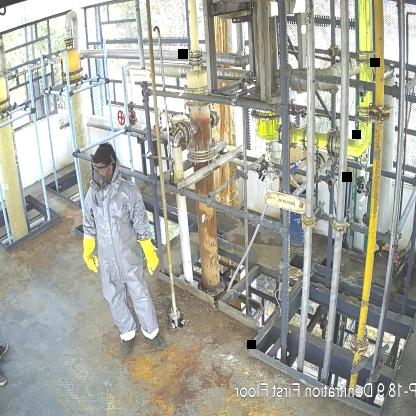goggles: (92, 162, 110, 173)
mask: (90, 172, 107, 195)
